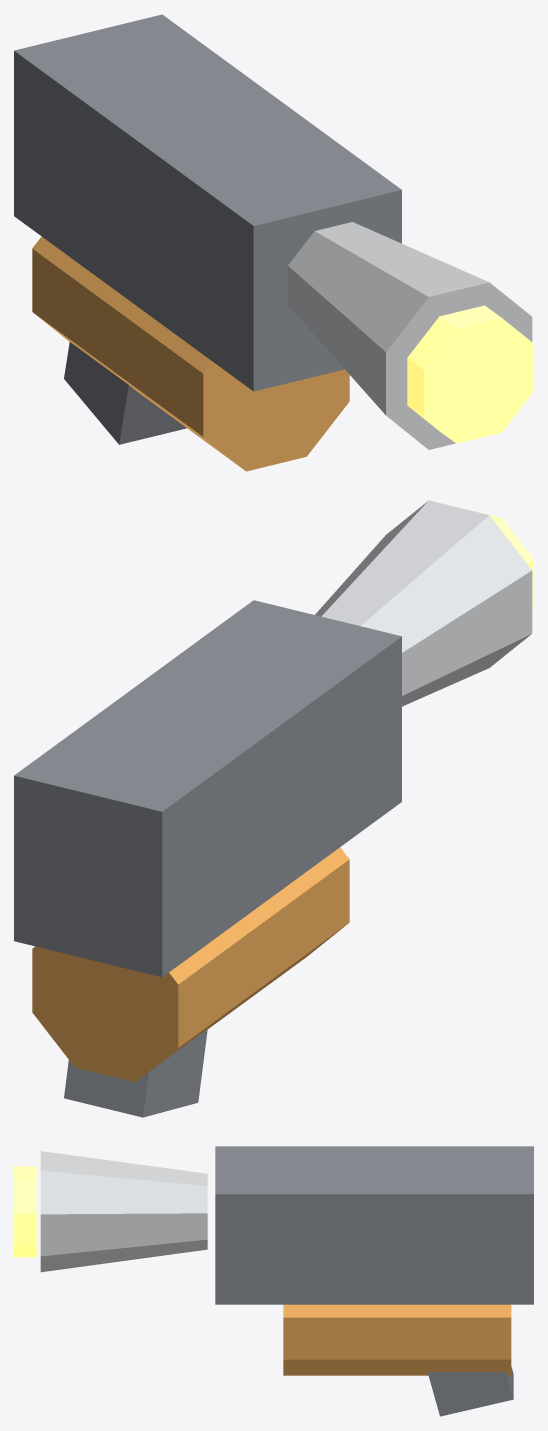
Rendered from torch.glb.
3 views of the same model, one above another, from view 1: azimuth 30°, elevation 25°; view 2: azimuth 150°, elevation 25°; view 3: azimuth 270°, elevation 25° (orthographic). The views are drawn at different scales.
Visible parts, largest first — view 1: gun; view 2: gun; view 3: gun.
Part boxes in pixels (left/top/right/bottom): gun: left=14, top=14, right=533, bottom=471; gun: left=14, top=500, right=533, bottom=1117; gun: left=14, top=1146, right=533, bottom=1416.
Bounding box in the file's own units: 0.15 × 0.3532 × 0.685.
